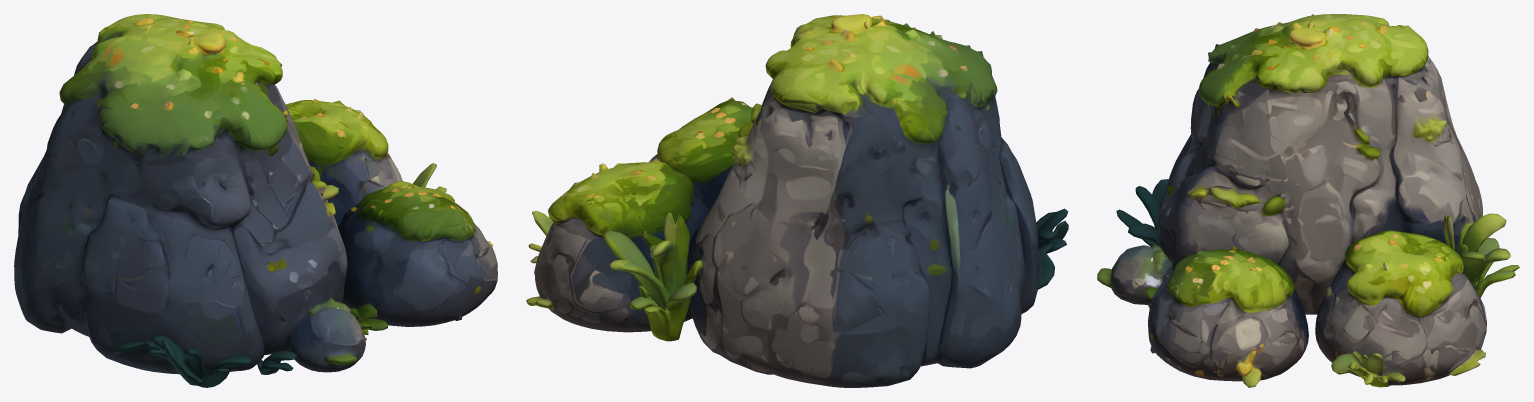
The model's file is rocks.glb.
3 renders of one model, left to right at view 1: azimuth 30°, elevation 25°; view 2: azimuth 150°, elevation 25°; view 3: azimuth 270°, elevation 25°, orthographic. The views are drawn at different scales.
Parts seen in each view (by area): view 1: tripo_node_f40ab52b-7968-4da0-a71a-b735ec34ea64; view 2: tripo_node_f40ab52b-7968-4da0-a71a-b735ec34ea64; view 3: tripo_node_f40ab52b-7968-4da0-a71a-b735ec34ea64.
Part boxes in pixels (box(x1,y1,x2,y2)): tripo_node_f40ab52b-7968-4da0-a71a-b735ec34ea64: box(14, 14, 497, 387); tripo_node_f40ab52b-7968-4da0-a71a-b735ec34ea64: box(526, 14, 1068, 387); tripo_node_f40ab52b-7968-4da0-a71a-b735ec34ea64: box(1097, 14, 1519, 387).
Bounding box in the file's own units: 1 × 0.6121 × 0.9108.
Materials: 1 (1 with a texture image).
